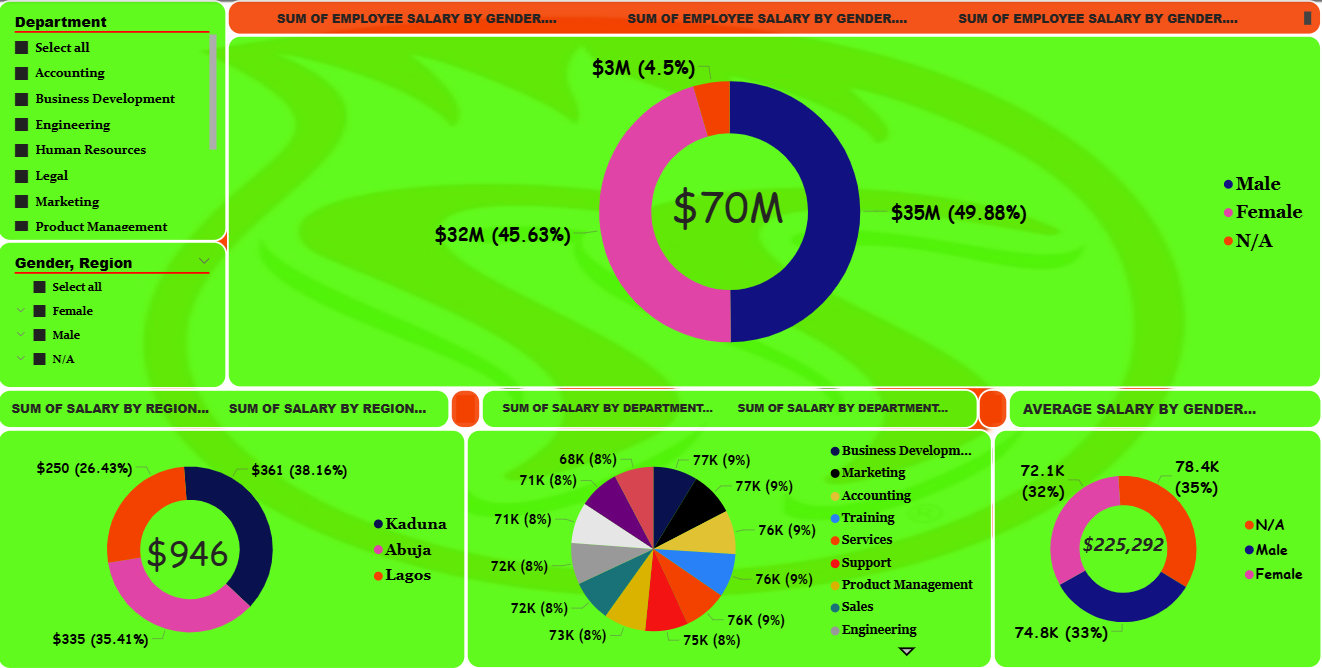

This screenshot's page, from the dashboard's own definition file:
{"tool":"powerbi","page":{"name":"Page 2","canvas":[1497,757],"ordinal":1},"visuals":[{"type":"slicer","fields":{"Values":["MY BI PROJECT.Department"]},"box":[0,0,260,272.6],"z":0},{"type":"slicer","fields":{"Values":["MY BI PROJECT.Gender","MY BI PROJECT.Region"]},"box":[0,272.3,259.9,167.2],"z":1000},{"type":"donutChart","fields":{"Category":["MY BI PROJECT.Gender"],"Y":["Sum(MY BI PROJECT.Salary)"]},"box":[260.1,39.9,1236.9,399.4],"z":2000},{"type":"donutChart","fields":{"Y":["MY BI PROJECT.Salary count by dept and region"],"Category":["MY BI PROJECT.Region"]},"box":[0,484.7,529.9,272.3],"z":3000},{"type":"cardVisual","fields":{"Data":["Sum(MY BI PROJECT.Salary)"]},"box":[745.3,165.5,162.3,146.5],"z":4000},{"type":"pieChart","fields":{"Y":["MY BI PROJECT.Average salary by gender"],"Category":["MY BI PROJECT.Department"]},"box":[529.9,484.7,595.4,271.2],"z":5000},{"type":"cardVisual","fields":{"Data":["MY BI PROJECT.Salary count by dept and region"]},"box":[151.8,553.4,134.6,134.6],"z":6000},{"type":"donutChart","fields":{"Y":["MY BI PROJECT.Average salary by gender"],"Category":["MY BI PROJECT.Gender"]},"box":[1125.3,484.7,371.7,271.2],"z":7000},{"type":"shape","box":[511.8,439.5,35,45.2],"z":8000},{"type":"shape","box":[1108.4,439.5,33.9,45.2],"z":9000},{"type":"textbox","box":[1186,594.3,172.1,79.4],"z":10000},{"type":"textbox","box":[260.1,0,1236.9,39.9],"z":11000},{"type":"textbox","box":[0,439.5,511.8,45.2],"z":12000},{"type":"textbox","box":[546.8,439.5,561.5,45.2],"z":13000},{"type":"textbox","box":[1142.3,439.5,354.8,45.2],"z":14000}]}

Visuals, with their boxes in screenshot pixels (x1, y1, x2, y2), scaled from the page's 1497x757 canvas onto the 1322x668 screenshot:
slicer - MY BI PROJECT.Department: box=[0, 0, 230, 241]
slicer - MY BI PROJECT.Gender x MY BI PROJECT.Region: box=[0, 240, 230, 388]
donutChart - MY BI PROJECT.Gender x Sum(MY BI PROJECT.Salary): box=[230, 35, 1321, 388]
donutChart - MY BI PROJECT.Salary count by dept and region x MY BI PROJECT.Region: box=[0, 428, 468, 667]
cardVisual - Sum(MY BI PROJECT.Salary): box=[658, 146, 802, 275]
pieChart - MY BI PROJECT.Average salary by gender x MY BI PROJECT.Department: box=[468, 428, 994, 667]
cardVisual - MY BI PROJECT.Salary count by dept and region: box=[134, 488, 253, 607]
donutChart - MY BI PROJECT.Average salary by gender x MY BI PROJECT.Gender: box=[994, 428, 1321, 667]
shape: box=[452, 388, 483, 428]
shape: box=[979, 388, 1009, 428]
textbox: box=[1047, 524, 1199, 594]
textbox: box=[230, 0, 1321, 35]
textbox: box=[0, 388, 452, 428]
textbox: box=[483, 388, 979, 428]
textbox: box=[1009, 388, 1321, 428]
